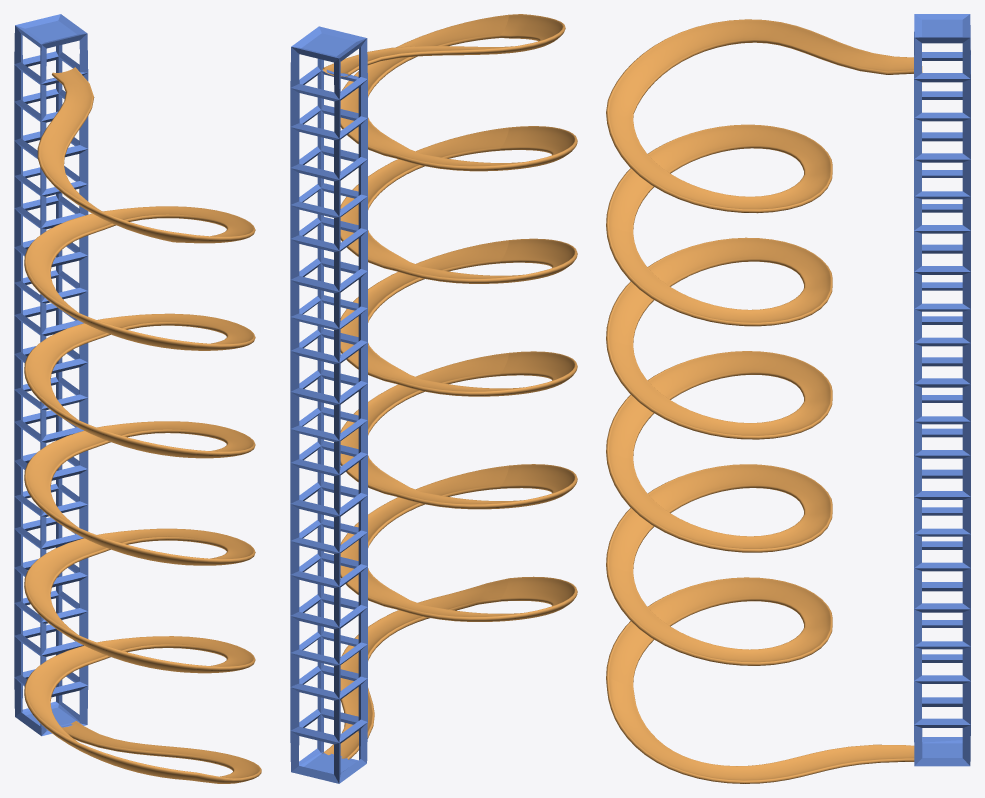
The model's file is road_6.fbx.
The picture shows the model from 3 angles, left to right: view 1: azimuth 30°, elevation 25°; view 2: azimuth 150°, elevation 25°; view 3: azimuth 270°, elevation 25°; orthographic projection. The views are drawn at different scales.
Parts seen in each view (by area): view 1: road_6, elevator_6; view 2: road_6, elevator_6; view 3: road_6, elevator_6.
Part boxes in pixels (x1,y1,x2,y2): road_6: (24, 67, 261, 783); elevator_6: (14, 14, 88, 736); road_6: (322, 14, 577, 759); elevator_6: (290, 26, 367, 783); road_6: (606, 19, 922, 783); elevator_6: (914, 14, 970, 766).
Bounding box in the file's own units: 3686 × 11821 × 5351.
